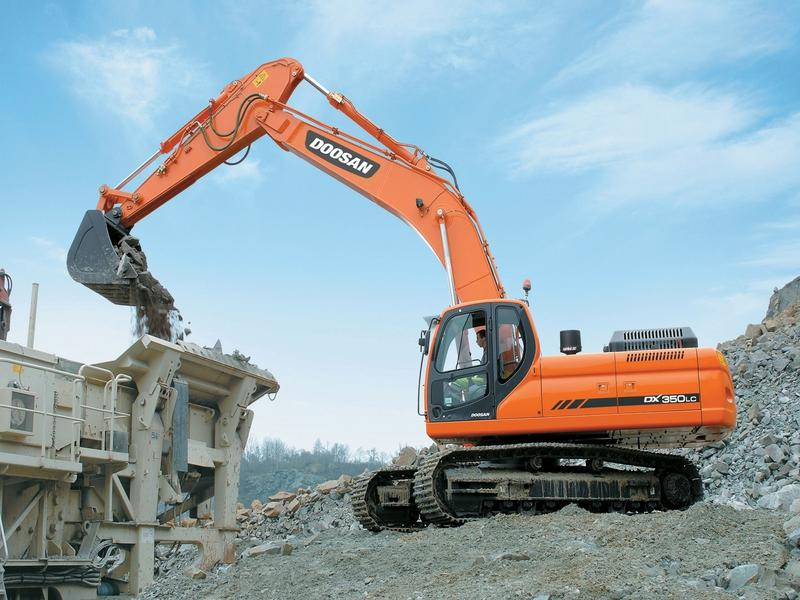shovel: (65, 51, 738, 528)
